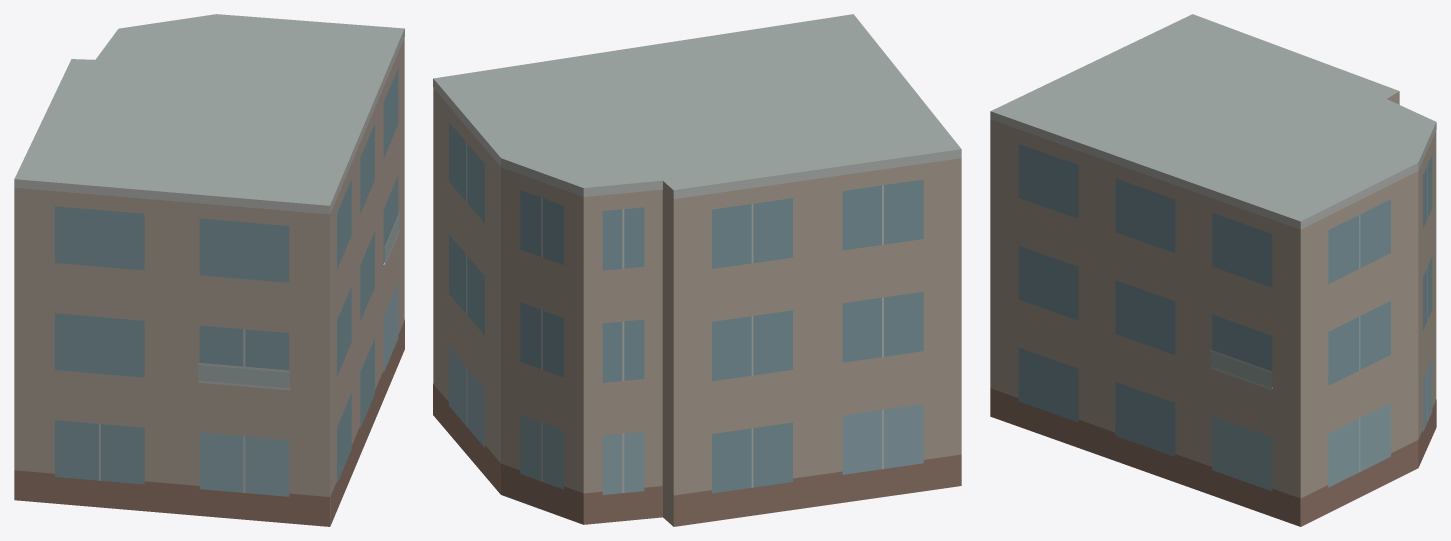
File: survey-upis-32851920.glb
The picture shows the model from 3 angles, left to right: view 1: azimuth 30°, elevation 25°; view 2: azimuth 150°, elevation 25°; view 3: azimuth 270°, elevation 25°; orthographic projection. The views are drawn at different scales.
Parts seen in each view (by area): view 1: survey-upis-32851920.tmp; view 2: survey-upis-32851920.tmp; view 3: survey-upis-32851920.tmp.
Boxes of the visible parts, x1=… form: survey-upis-32851920.tmp: x1=14, y1=14, x2=404, y2=526; survey-upis-32851920.tmp: x1=433, y1=14, x2=961, y2=526; survey-upis-32851920.tmp: x1=990, y1=14, x2=1436, y2=526.
Bounding box in the file's own units: 13.35 × 9.15 × 12.12.
